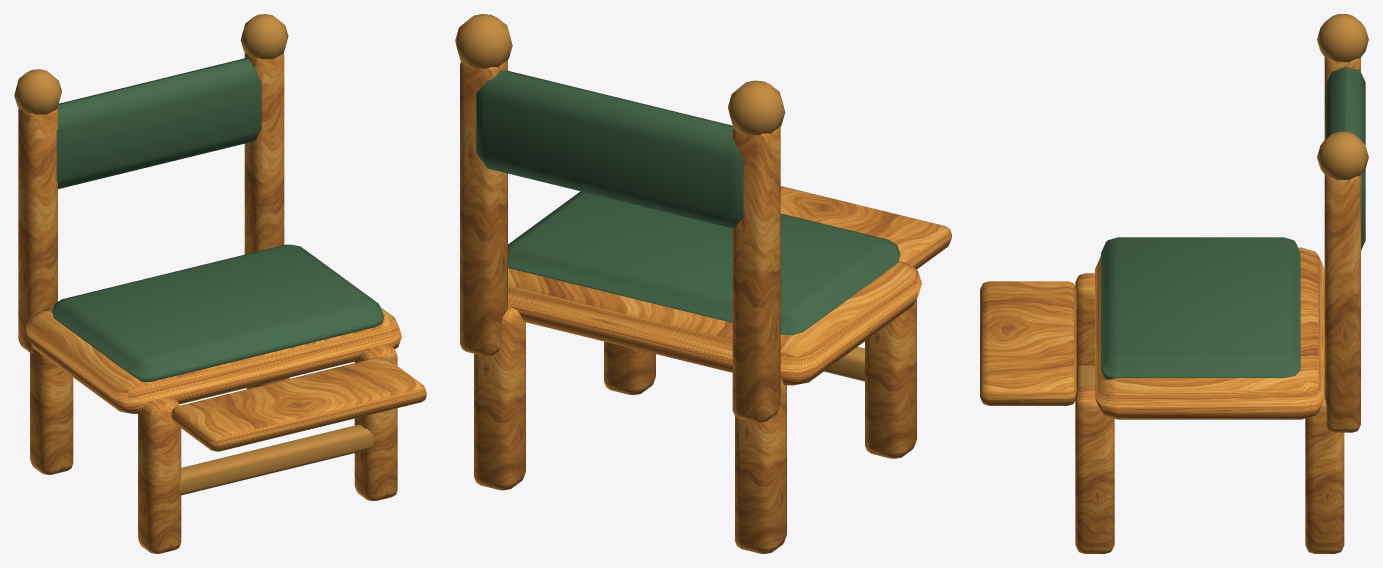
File: sesame-chair.glb
3 renders of one model, left to right at view 1: azimuth 30°, elevation 25°; view 2: azimuth 150°, elevation 25°; view 3: azimuth 270°, elevation 25°, orthographic. The views are drawn at different scales.
Parts seen in each view (by area): view 1: Splayed chair leg; view 2: Splayed chair leg; view 3: Splayed chair leg.
Boxes of the visible parts, box(x1,y1,x2,y2) form: Splayed chair leg: box(14, 14, 426, 553); Splayed chair leg: box(455, 14, 951, 553); Splayed chair leg: box(980, 14, 1368, 553).
Size of the model in its own units: 0.58 by 0.763 by 0.643.
3 materials, 1 textured.
